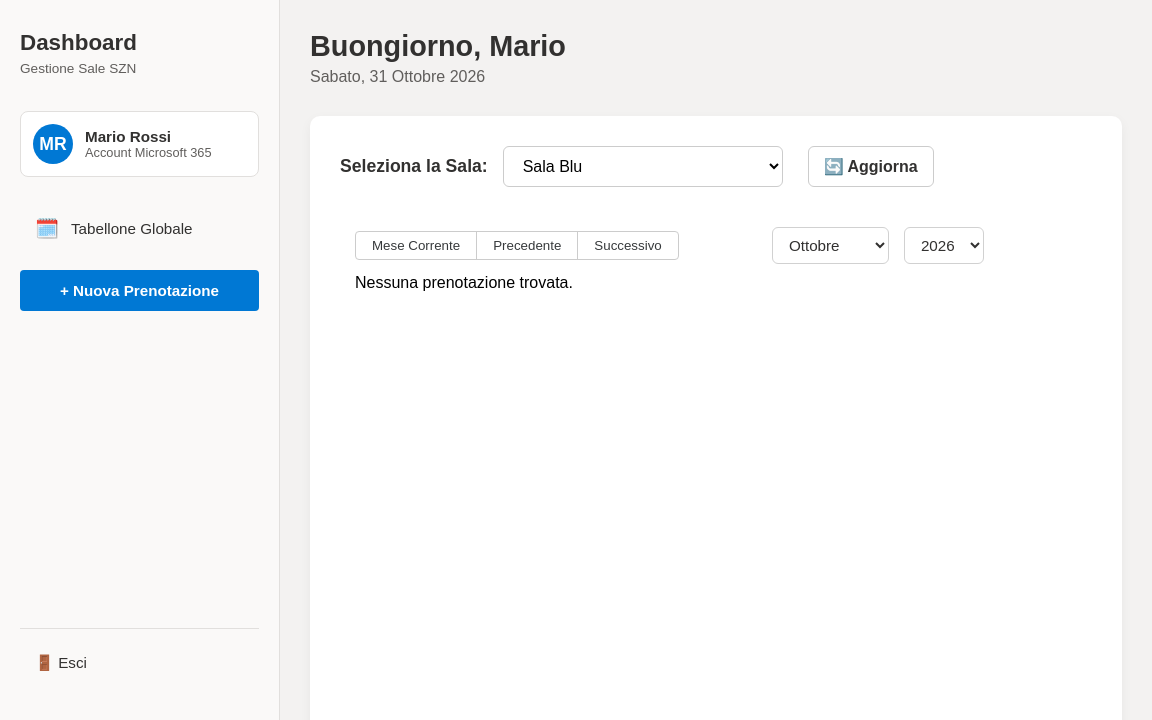
Scenario: Vista Globale con Risultato Parziale › Comportamento UI App in Vista Globale › passaggio a vista singola sala fa scomparire il banner
This screenshot has width=1152, height=720.
// Entra in vista globale
Click the button with class "bottone-menu" showing "🗓️ Tabellone Globale" at (140, 228), box [20,207,259,250]
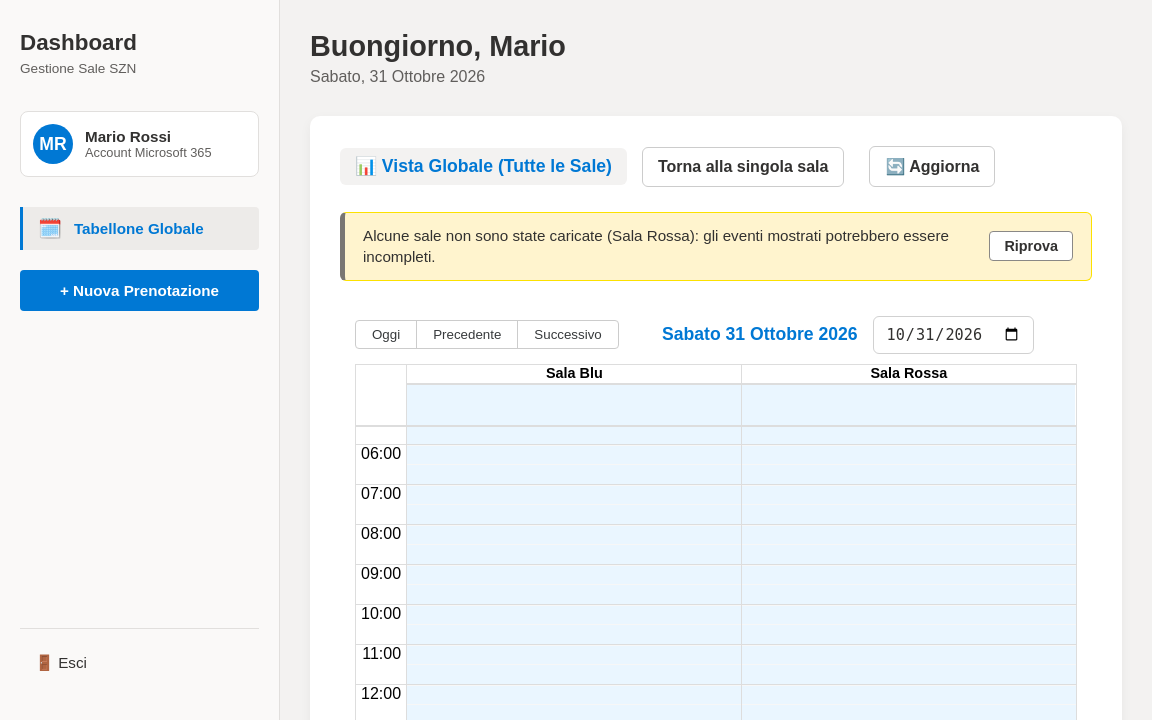
Result: the message with class "banner-warning" is shown at [340,212,1092,281]
Result: the button with class "btn-outline" showing "Torna alla singola sala" is shown
Result: the button with class "btn-outline" reads "Torna alla singola sala"
Click the button with class "btn-outline" showing "Torna alla singola sala" at (743, 166), box [642,146,844,186]
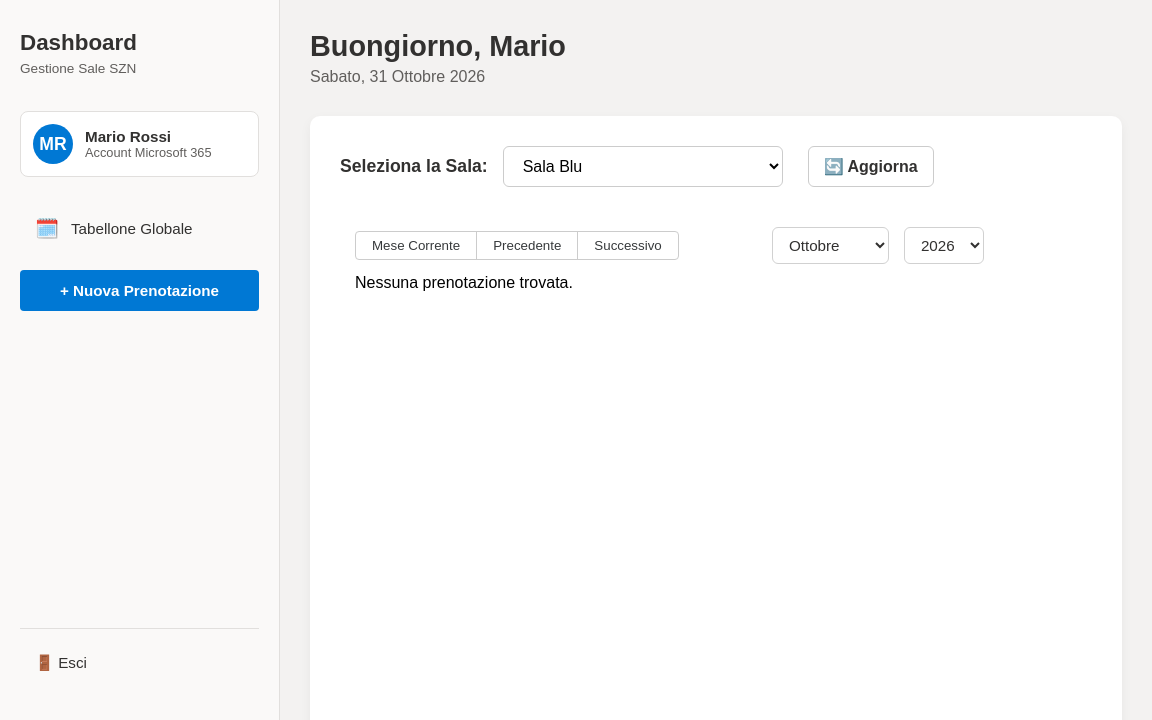
Result: the message with class "banner-warning" is gone
